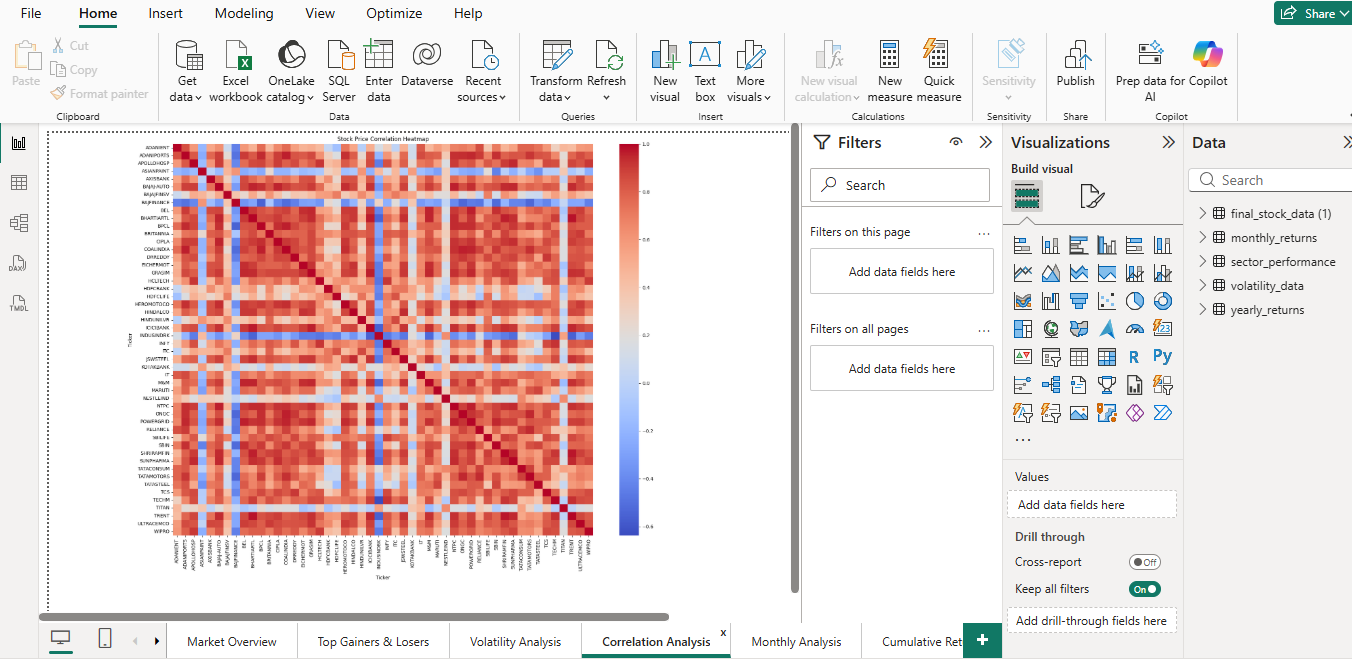

This screenshot's page, from the dashboard's own definition file:
{"tool":"powerbi","page":{"name":"Correlation Analysis","canvas":[1280,720],"ordinal":3},"visuals":[{"type":"image","box":[16.2,0,958.1,652.7],"z":0}]}

Visuals, with their boxes on the page's 1280x720 design canvas (x1, y1, x2, y2). These are canvas units, not pixel positions in the 1352x659 screenshot, which may show the page scaled, cropped or inside an application window:
image: box(16, 0, 974, 653)
